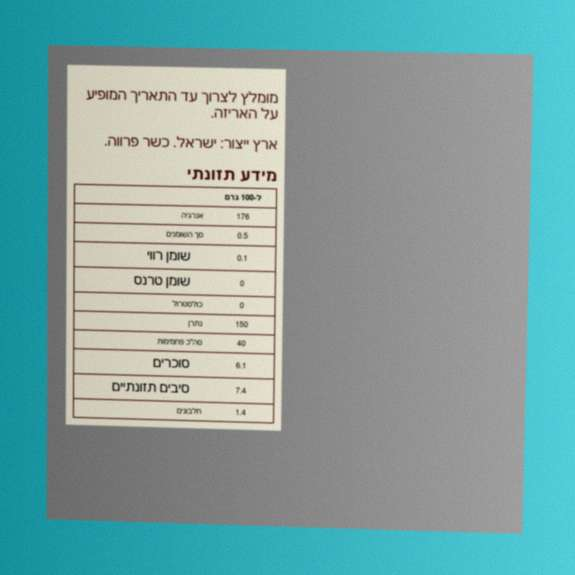carbs: (236, 339, 247, 349)
energy: (235, 212, 250, 222)
fat: (236, 231, 249, 241)
protein: (234, 408, 247, 418)
